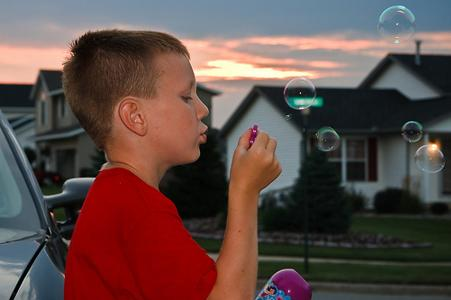person: (60, 27, 286, 300)
